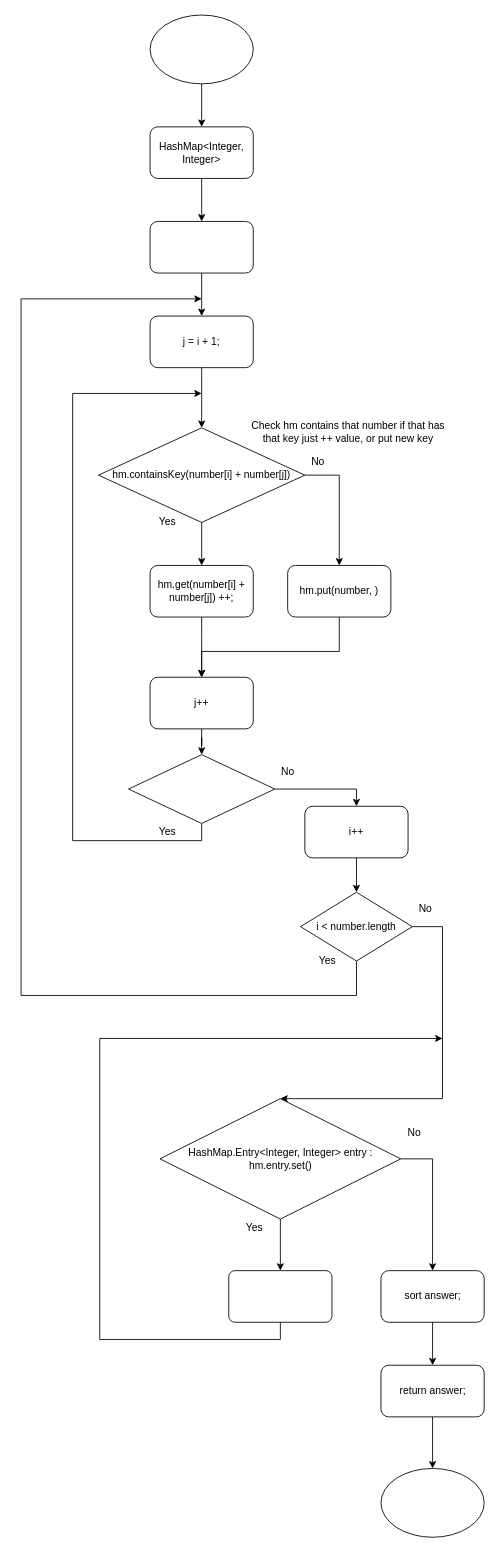
The diagram is 500 pixels wide and 1552 high, and some of its shapes have lost their labels. Each missing label, with the box of its shape:
answer[index] = entry.getKey();: (228, 1270, 332, 1322)
End: (380, 1468, 484, 1537)
i = 0;: (149, 221, 253, 273)
j < numbers.length;: (128, 754, 275, 823)
start: (149, 14, 253, 84)
